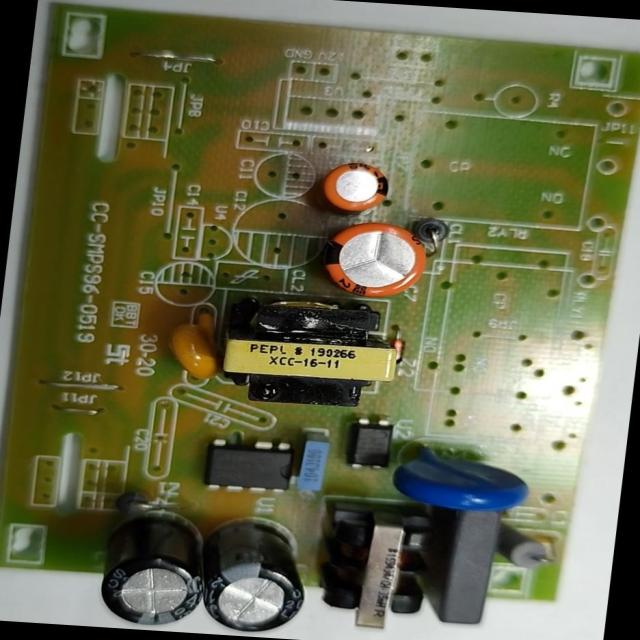Cap1: (310, 214, 432, 306)
Cap2: (312, 156, 394, 221)
Cap3: (192, 513, 317, 638)
Cap4: (88, 504, 216, 632)
MOSFET: (198, 430, 305, 500)
Mov: (383, 440, 539, 516)
Resistor: (482, 518, 556, 573)
Transformer: (208, 286, 408, 412), (300, 492, 448, 636)
